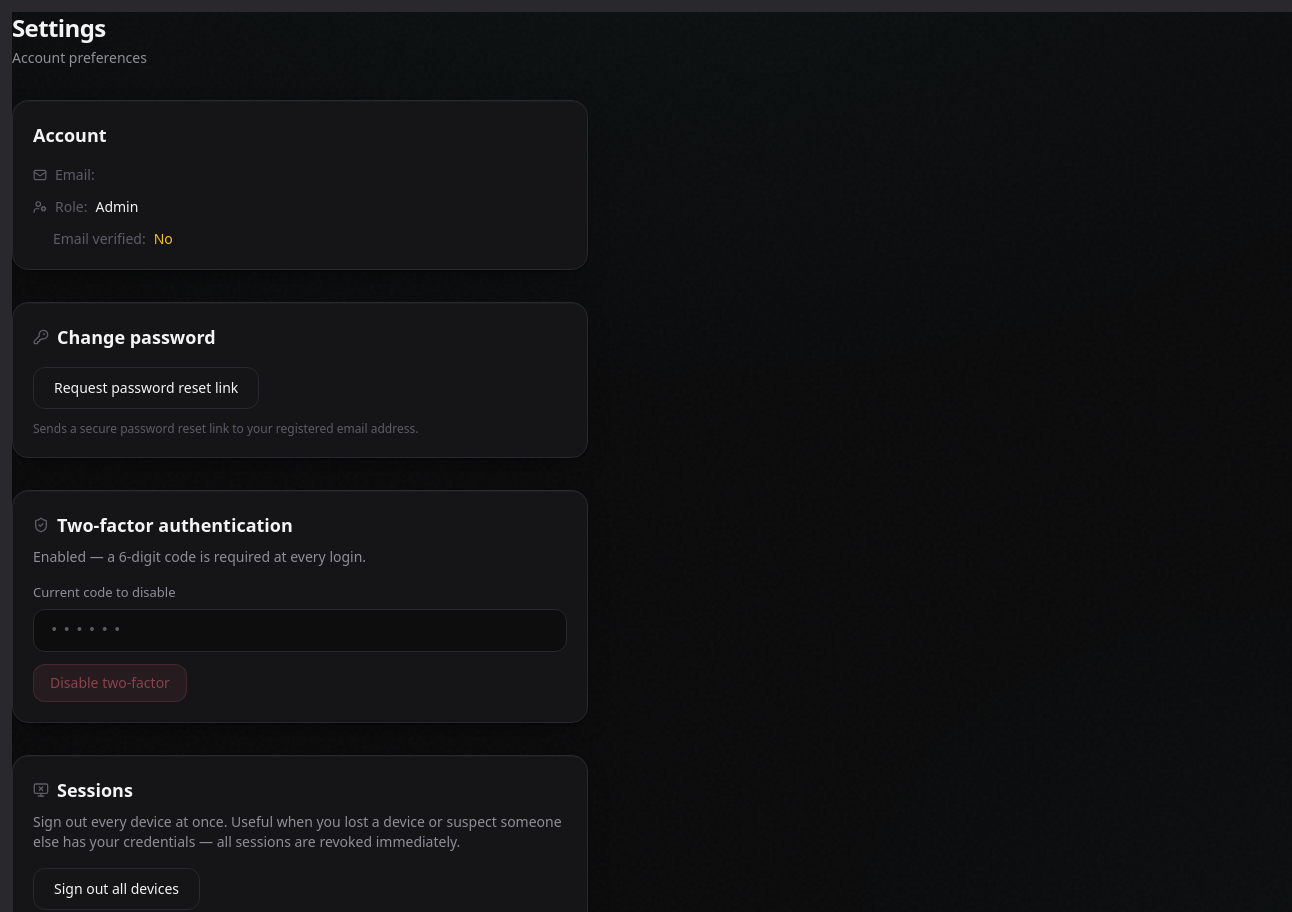
Test: TOTP settings (AUTH-07) › disables TOTP with a valid current code
The image size is (1292, 912).
Type "654321" into the field labelled "Current code to disable" at (300, 630), box [33, 608, 567, 652]
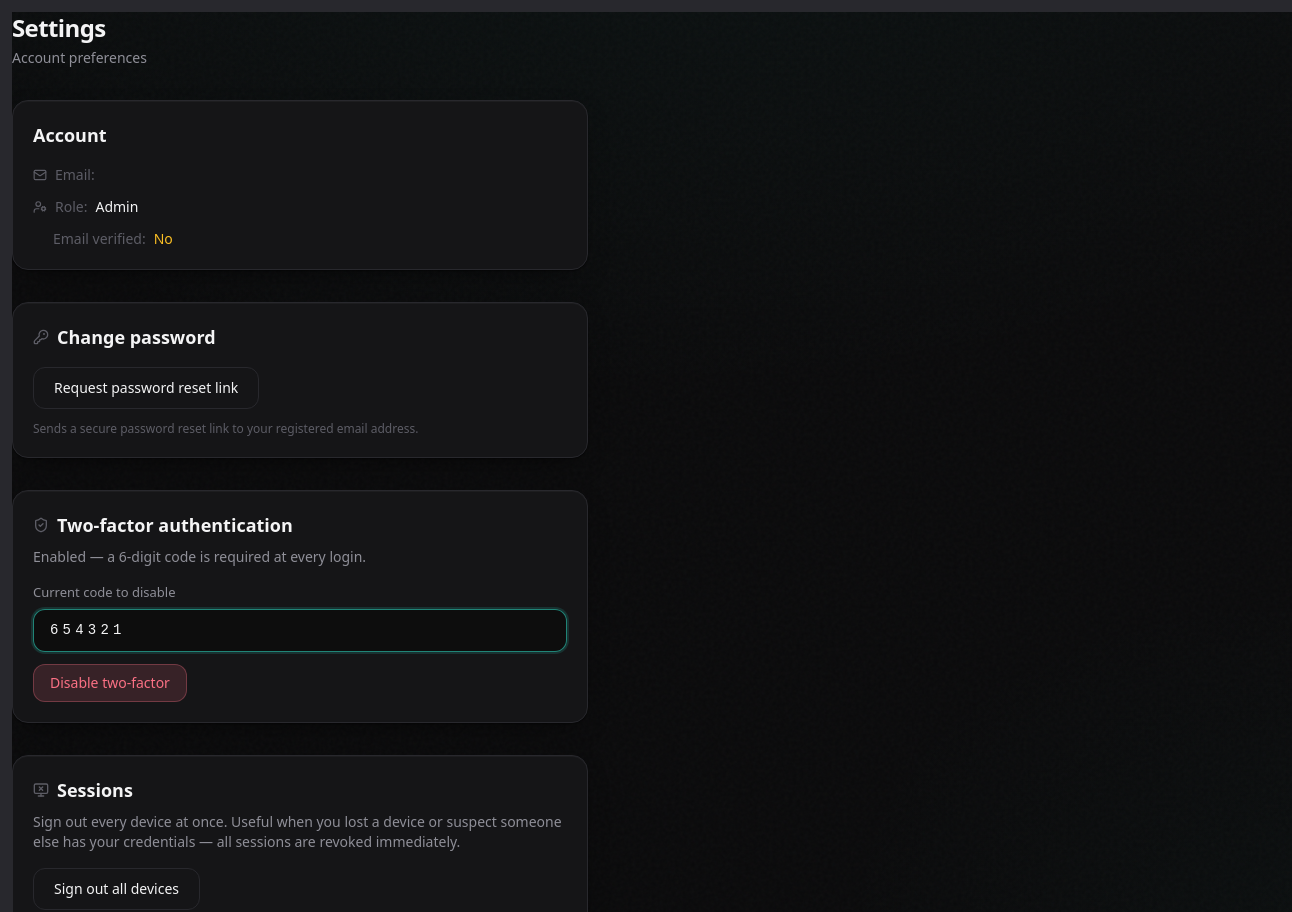
Click the button "Disable two-factor" at (110, 682), box [33, 664, 187, 702]
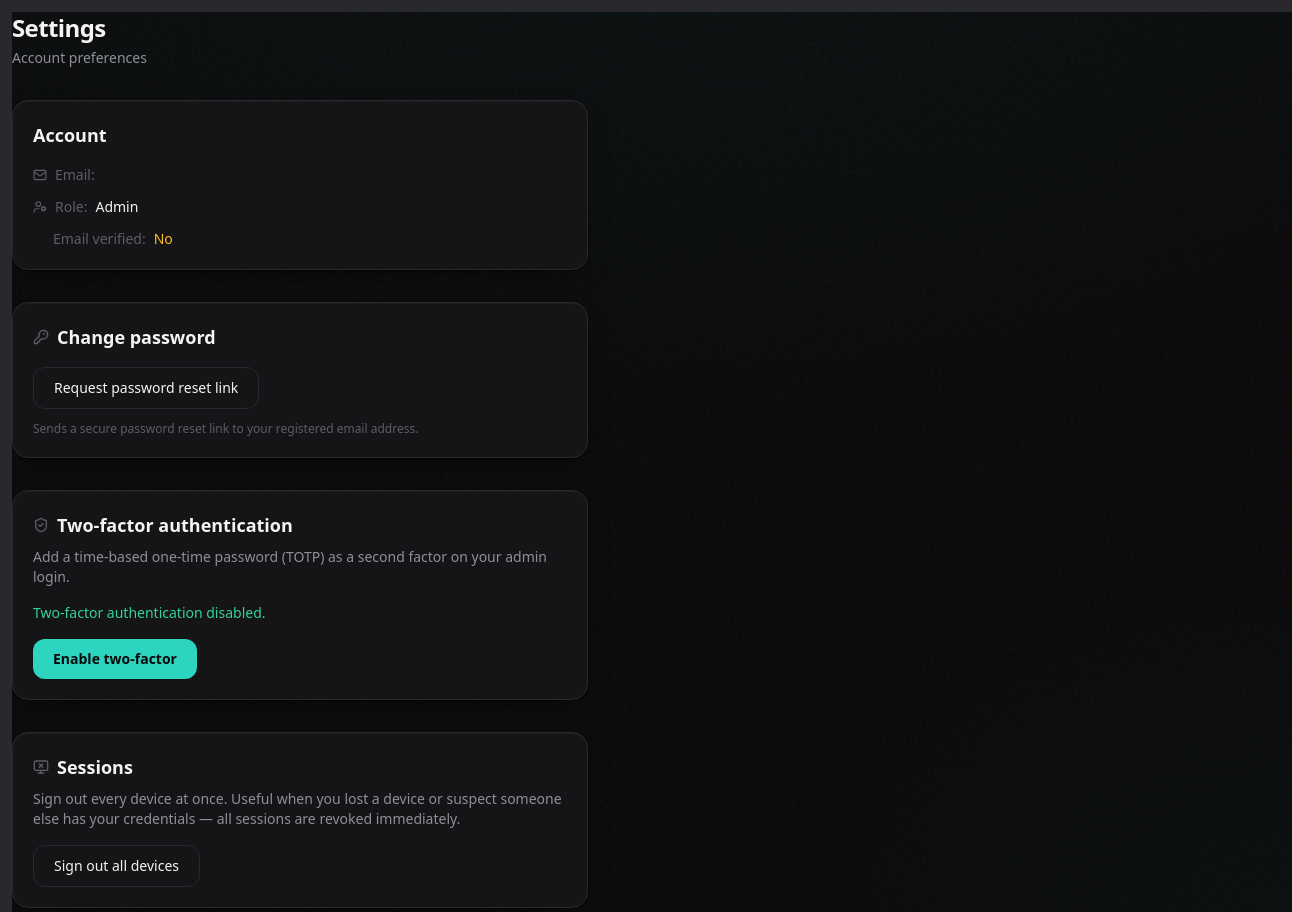
Check: the text "Two-factor authentication disabled." is shown, box [33, 603, 266, 622]
